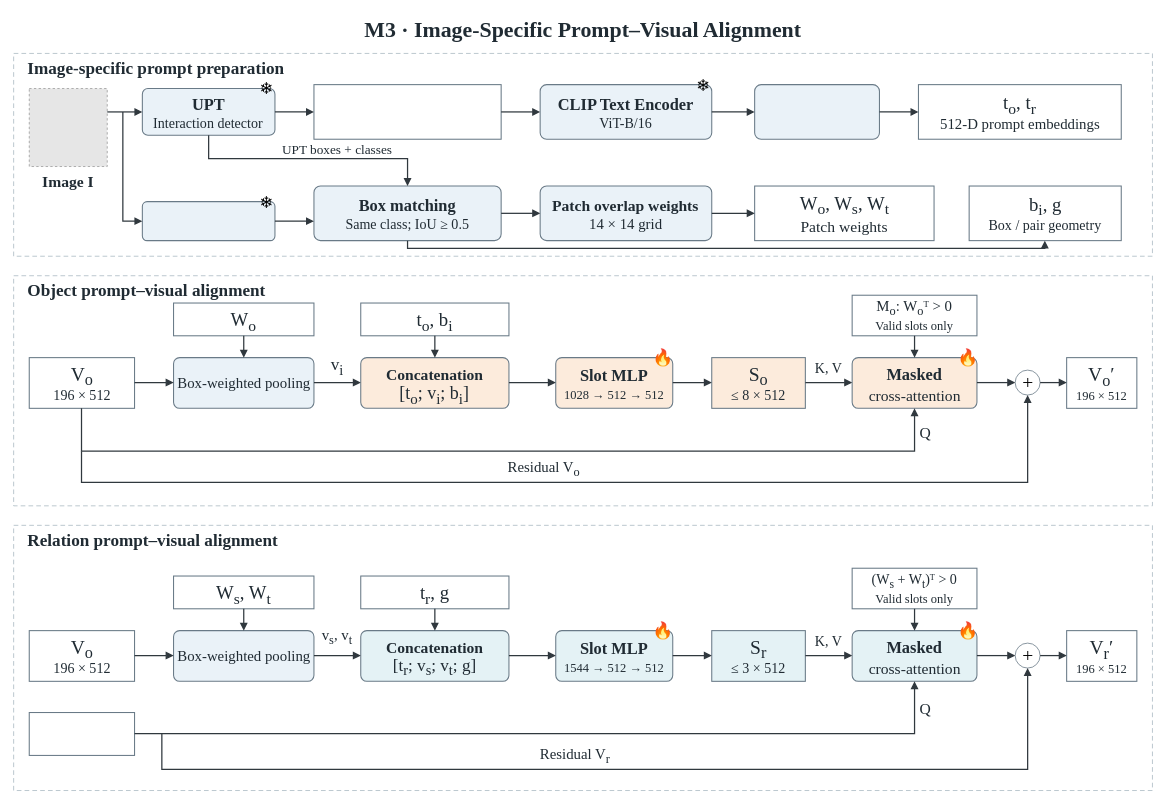
Some shapes in this 1166 by 804 pixel diagram are drawn without their labels. Grey dashed boxes stand in for pictures. The shapes that lost their labels are listed below. From the top down, each one's centre as x and y in pixels, then its label:
the point at 407,111: Object / relation phrases
the point at 817,111: L2 normalization
the point at 208,221: YOLO detector
the point at 81,734: V r
